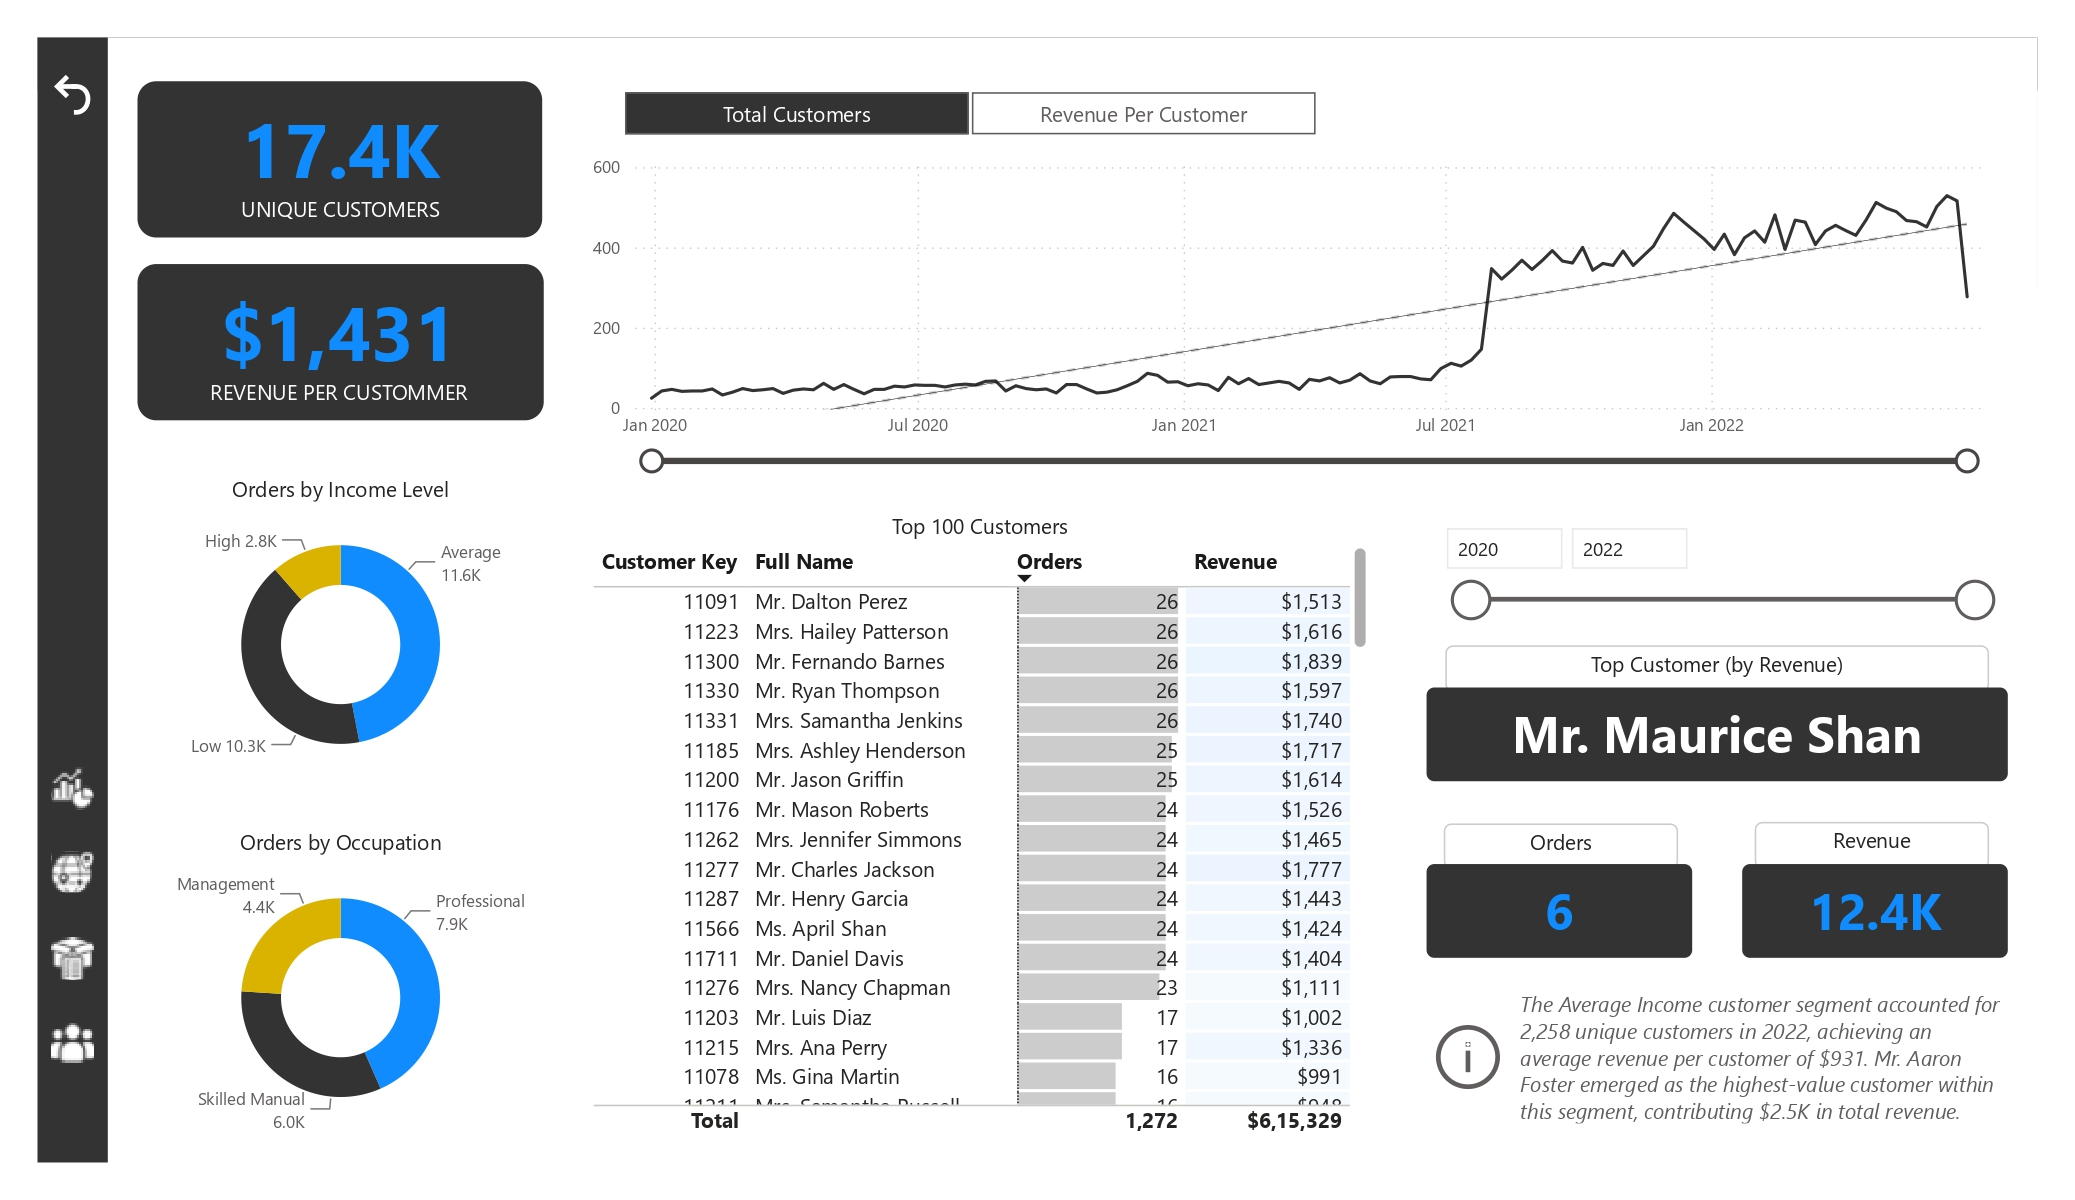

The dashboard page shown, as its layout file describes it:
{"tool":"powerbi","page":{"name":"Customer Detail","canvas":[1280,720],"ordinal":3},"visuals":[{"type":"slicer","fields":{"Values":["Customer Matrix Selection.Customer Matrix Selection"]},"box":[350,28.2,491.8,40.9],"z":0},{"type":"shape","box":[0,0,45,720],"z":1000},{"type":"shape","box":[64,28,258.8,100],"z":1000,"group":"g1"},{"type":"actionButton","box":[5,463,35,35],"z":1000,"group":"g3"},{"type":"lineChart","fields":{"Y":["Measuer Table.Total Customers"],"Category":["Calendar Lookup.Date Hierarchy.Start of Year","Calendar Lookup.Date Hierarchy.Start of Month","Calendar Lookup.Date Hierarchy.Start of Week","Calendar Lookup.Date Hierarchy.Date"]},"box":[350,69.1,910.9,212.7],"z":2000},{"type":"shape","box":[64,145,260,100],"z":2000,"group":"g2"},{"type":"actionButton","box":[5,517.3,35,35],"z":2000,"group":"g3"},{"type":"card","fields":{"Values":["Measuer Table.Total Customers"]},"box":[58,19,272,119],"z":3000,"group":"g1"},{"type":"donutChart","title":"Orders by Income Level","fields":{"Y":["Measuer Table.Total Orders"],"Category":["Customer Lookup.Income Level"]},"box":[64,280,260,200],"z":3000},{"type":"actionButton","box":[5,571.7,35,35],"z":3000,"group":"g3"},{"type":"card","fields":{"Values":["Measuer Table.Average Revenue Per Customer"]},"box":[57,136,272,119],"z":4000,"group":"g2"},{"type":"donutChart","title":"Orders by Occupation","fields":{"Y":["Measuer Table.Total Orders"],"Category":["Customer Lookup.Occupation"]},"box":[63.6,506.4,260,200],"z":4000},{"type":"actionButton","box":[5,626,35,35],"z":4000,"group":"g3"},{"type":"tableEx","title":"Top 100 Customers","fields":{"Values":["Customer Lookup.CustomerKey","Customer Lookup.Full Name","Measuer Table.Total Orders","Measuer Table.Total Revenue"]},"box":[350,303.6,506.4,402.7],"z":5000},{"type":"slicer","fields":{"Values":["Calendar Lookup.Year"]},"box":[889.1,303.6,371.8,74.5],"z":6000},{"type":"textbox","box":[1099.3,501.3,150,30],"z":7000,"group":"g4"},{"type":"actionButton","box":[889,599,372,107],"z":7000},{"type":"actionButton","box":[5,19,35,35],"z":8000},{"type":"textbox","box":[900,502,150,29.3],"z":8000,"group":"g4"},{"type":"group","id":"g1","title":"Group 2","box":[58,19,272,119],"z":9000},{"type":"card","fields":{"Values":["Measuer Table.Total Orders (Customer Detail)"]},"box":[889,528.7,170,60],"z":9000,"group":"g4"},{"type":"group","id":"g2","title":"Group 3","box":[57,136,272,119],"z":10000},{"type":"textbox","box":[900.7,388.5,348.7,30],"z":10000,"group":"g5"},{"type":"card","fields":{"Values":["Measuer Table.Total Reveune (Customer Detail)"]},"box":[1091,528.7,170,60],"z":10000,"group":"g4"},{"type":"group","id":"g3","title":"Navigation Buttons","box":[5,463,35,198],"z":11000},{"type":"group","id":"g4","title":"Group 4","box":[889,388.5,372,200.2],"z":12000},{"type":"group","id":"g5","title":"Group 1","box":[889,388.5,372,87.3],"z":13000,"group":"g4"},{"type":"card","fields":{"Values":["Customer Lookup.Full Name (Customer Detail)"]},"box":[889,415.8,372,60],"z":13000,"group":"g5"}]}

Visuals, with their boxes on the page's 1280x720 design canvas (x1, y1, x2, y2). These are canvas units, not pixel positions in the 2075x1200 screenshot, which may show the page scaled, cropped or inside an application window:
slicer - Customer Matrix Selection.Customer Matrix Selection: (350,28,842,69)
shape: (0,0,45,720)
shape: (64,28,323,128)
actionButton: (5,463,40,498)
lineChart - Measuer Table.Total Customers x Calendar Lookup.Date Hierarchy.Start of Year: (350,69,1261,282)
shape: (64,145,324,245)
actionButton: (5,517,40,552)
card - Measuer Table.Total Customers: (58,19,330,138)
"Orders by Income Level" donutChart: (64,280,324,480)
actionButton: (5,572,40,607)
card - Measuer Table.Average Revenue Per Customer: (57,136,329,255)
"Orders by Occupation" donutChart: (64,506,324,706)
actionButton: (5,626,40,661)
"Top 100 Customers" tableEx: (350,304,856,706)
slicer - Calendar Lookup.Year: (889,304,1261,378)
textbox: (1099,501,1249,531)
actionButton: (889,599,1261,706)
actionButton: (5,19,40,54)
textbox: (900,502,1050,531)
"Group 2" group: (58,19,330,138)
card - Measuer Table.Total Orders (Customer Detail): (889,529,1059,589)
"Group 3" group: (57,136,329,255)
textbox: (901,388,1249,418)
card - Measuer Table.Total Reveune (Customer Detail): (1091,529,1261,589)
"Navigation Buttons" group: (5,463,40,661)
"Group 4" group: (889,388,1261,589)
"Group 1" group: (889,388,1261,476)
card - Customer Lookup.Full Name (Customer Detail): (889,416,1261,476)
